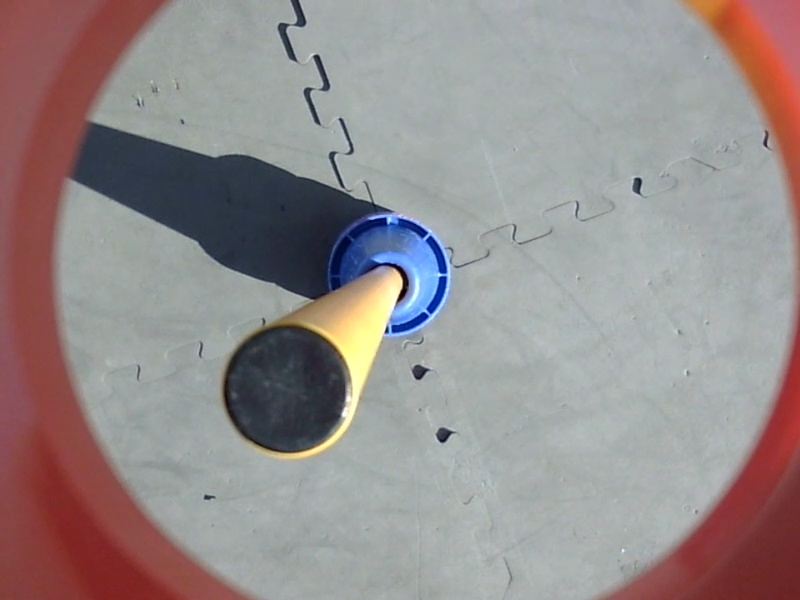tip: (216, 316, 366, 462)
